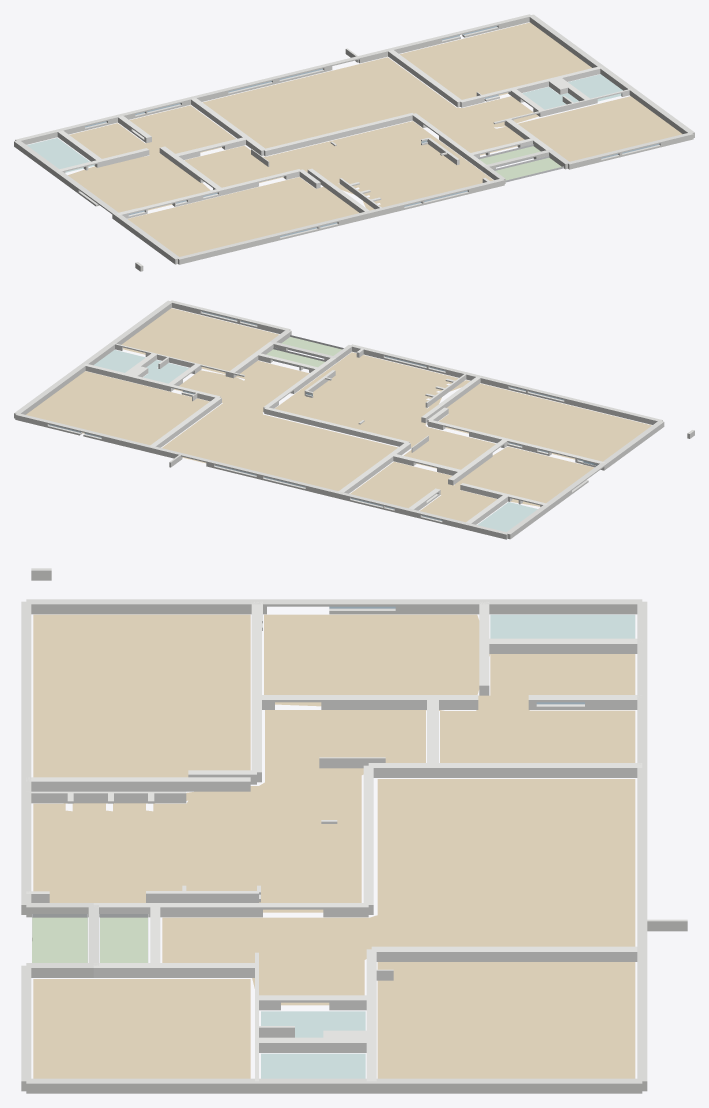
The model's file is Screenshot 2026-10-06 153119_3d.glb.
3 renders of one model, top to bottom at view 1: azimuth 30°, elevation 25°; view 2: azimuth 150°, elevation 25°; view 3: azimuth 270°, elevation 25°, orthographic. The views are drawn at different scales.
Visible parts, largest first — view 1: floor_R4_living_196, floor_R6_living_198, floor_R3_living_195, floor_R10_living_202, floor_R5_living_197, floor_R9_living_201, wall_W15_46, floor_R2_bathroom_194, wall_W31_90, floor_R8_bathroom_200, wall_W62_151, wall_W71_162 (+11 smaller); view 2: floor_R4_living_196, floor_R6_living_198, floor_R3_living_195, floor_R10_living_202, floor_R5_living_197, floor_R9_living_201, wall_W15_46, floor_R2_bathroom_194, wall_W31_90, wall_W71_162, wall_W62_151, floor_R8_bathroom_200 (+10 smaller); view 3: floor_R4_living_196, floor_R6_living_198, floor_R10_living_202, floor_R3_living_195, floor_R5_living_197, floor_R9_living_201, wall_W71_162, wall_W62_151, wall_W73_164, floor_R2_bathroom_194, wall_W40_121, wall_W49_136 (+20 smaller).
Boxes of the visible parts, x1,y1,x2,y2 form: floor_R4_living_196: [202, 57, 538, 155]; floor_R6_living_198: [184, 121, 493, 210]; floor_R3_living_195: [68, 105, 235, 212]; floor_R10_living_202: [128, 177, 358, 256]; floor_R5_living_197: [400, 22, 591, 99]; floor_R9_living_201: [518, 96, 682, 161]; wall_W15_46: [263, 113, 414, 156]; floor_R2_bathroom_194: [27, 138, 94, 172]; wall_W31_90: [177, 233, 279, 264]; floor_R8_bathroom_200: [568, 74, 622, 101]; wall_W62_151: [388, 49, 462, 107]; wall_W71_162: [529, 14, 604, 67]; floor_R4_living_196: [162, 360, 397, 490]; floor_R6_living_198: [275, 352, 495, 469]; floor_R3_living_195: [350, 446, 593, 522]; floor_R10_living_202: [439, 383, 651, 461]; floor_R5_living_197: [26, 371, 209, 445]; floor_R9_living_201: [121, 308, 279, 374]; wall_W15_46: [264, 407, 409, 446]; floor_R2_bathroom_194: [478, 502, 537, 531]; wall_W31_90: [564, 396, 662, 424]; wall_W71_162: [14, 364, 85, 418]; wall_W62_151: [149, 397, 221, 447]; floor_R8_bathroom_200: [94, 350, 145, 372]; floor_R4_living_196: [162, 779, 635, 1005]; floor_R6_living_198: [33, 710, 425, 912]; floor_R10_living_202: [33, 614, 250, 777]; floor_R3_living_195: [264, 614, 635, 762]; floor_R5_living_197: [377, 962, 635, 1078]; floor_R9_living_201: [33, 979, 250, 1078]; wall_W71_162: [371, 1078, 642, 1093]; wall_W62_151: [371, 946, 637, 961]; wall_W73_164: [26, 1078, 256, 1093]; floor_R2_bathroom_194: [490, 614, 635, 638]; wall_W40_121: [26, 599, 256, 614]; wall_W49_136: [26, 777, 250, 791].
Bounding box in the file's own units: 303 × 2.75 × 166.
